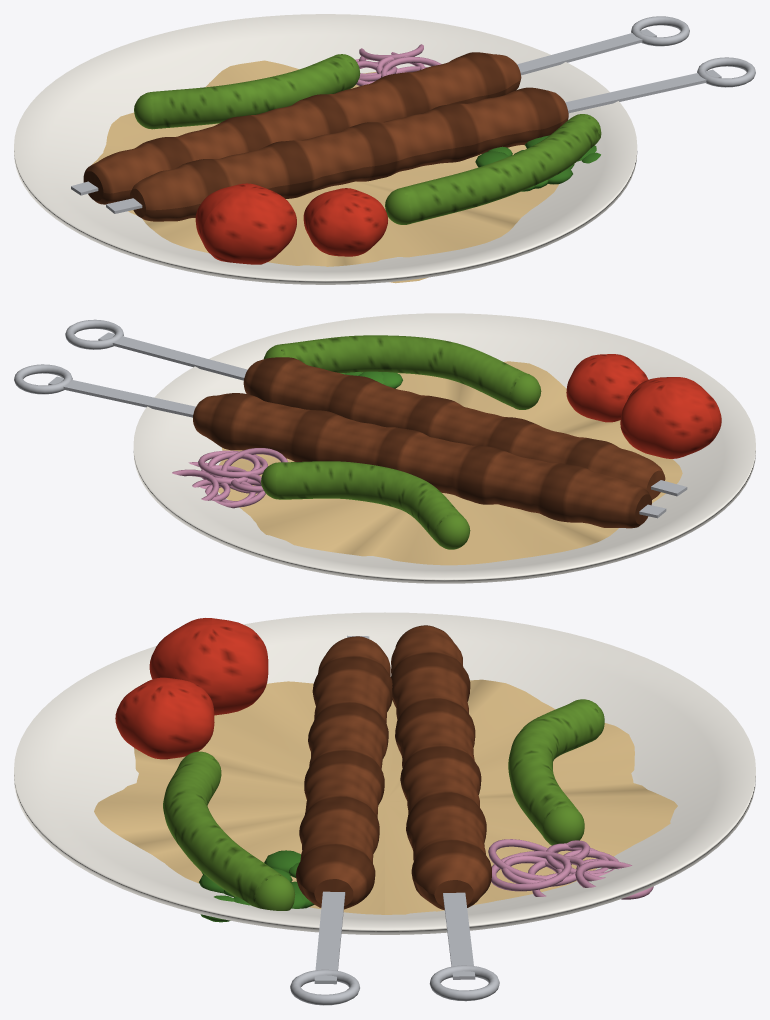
Rendered from adana-kebap.glb.
The picture shows the model from 3 angles, top to bottom: view 1: azimuth 30°, elevation 25°; view 2: azimuth 150°, elevation 25°; view 3: azimuth 270°, elevation 25°; orthographic projection. The views are drawn at different scales.
Parts seen in each view (by area): view 1: tabak, adana (×2), biber (×2), lavas, domates (×2), sis (×2), sumakli-sogan, maydanoz; view 2: tabak, adana (×2), lavas, biber (×2), domates (×2), sis (×2), sumakli-sogan, maydanoz; view 3: tabak, lavas, adana (×2), biber (×2), domates (×2), sumakli-sogan, sis (×2), maydanoz.
Part boxes in pixels (bbox=[...]): tabak: bbox=[14, 14, 637, 284]; adana (×2): bbox=[83, 16, 755, 221]; biber (×2): bbox=[134, 54, 601, 224]; lavas: bbox=[92, 60, 558, 283]; domates (×2): bbox=[195, 183, 387, 264]; sis (×2): bbox=[71, 29, 721, 213]; sumakli-sogan: bbox=[355, 44, 441, 85]; maydanoz: bbox=[475, 135, 600, 191]; tabak: bbox=[133, 313, 755, 583]; adana (×2): bbox=[14, 319, 665, 528]; lavas: bbox=[218, 361, 682, 565]; biber (×2): bbox=[261, 335, 541, 549]; domates (×2): bbox=[566, 354, 721, 458]; sis (×2): bbox=[48, 332, 687, 518]; sumakli-sogan: bbox=[172, 448, 287, 508]; maydanoz: bbox=[340, 371, 402, 388]; tabak: bbox=[14, 612, 755, 934]; lavas: bbox=[94, 679, 677, 914]; adana (×2): bbox=[290, 625, 499, 1005]; biber (×2): bbox=[163, 699, 604, 910]; domates (×2): bbox=[115, 618, 268, 759]; sumakli-sogan: bbox=[488, 839, 653, 899]; sis (×2): bbox=[314, 635, 475, 984]; maydanoz: bbox=[199, 850, 314, 922].
Size of the model in its own units: 0.373 by 0.0467 by 0.3.
